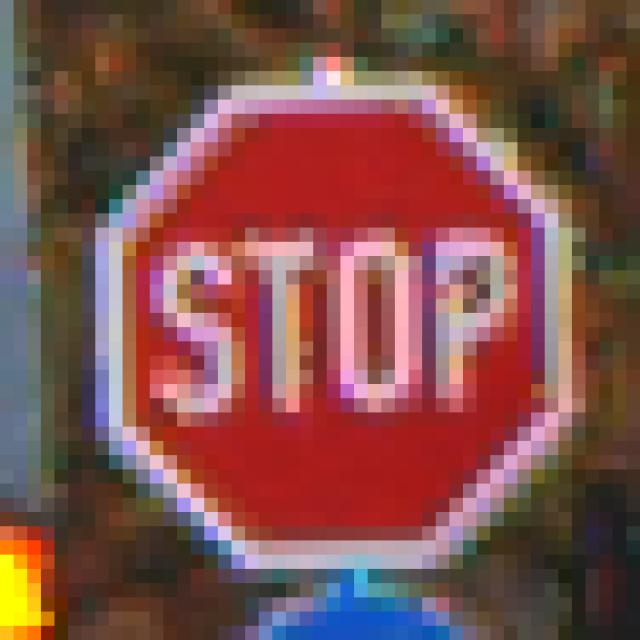STOP: (83, 72, 573, 570)
